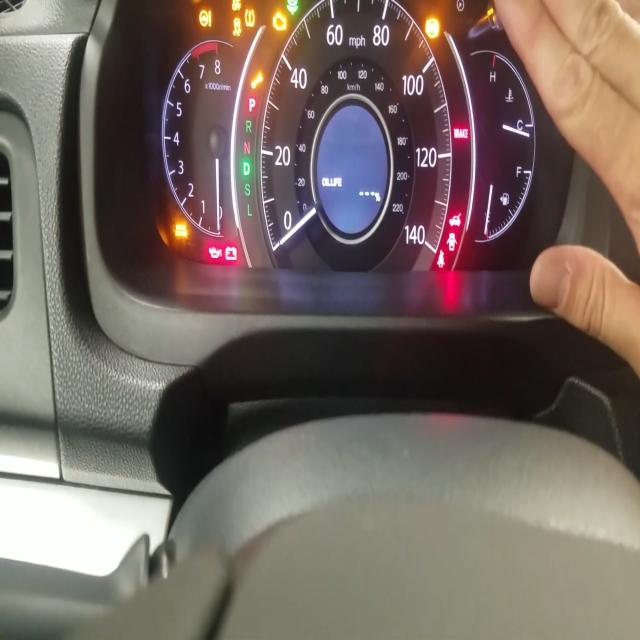Anti Lock Braking System: (425, 18, 439, 38)
Braking System Issue: (454, 128, 468, 140)
Charging System Issue: (225, 245, 237, 261)
Check Engine: (272, 12, 286, 32)
Electronic Stability Problem -ESP-: (232, 17, 242, 38)
Low Engine Oil Warning Light: (208, 246, 222, 260)
Low Tire Pressure Warning Light: (244, 8, 256, 28)
